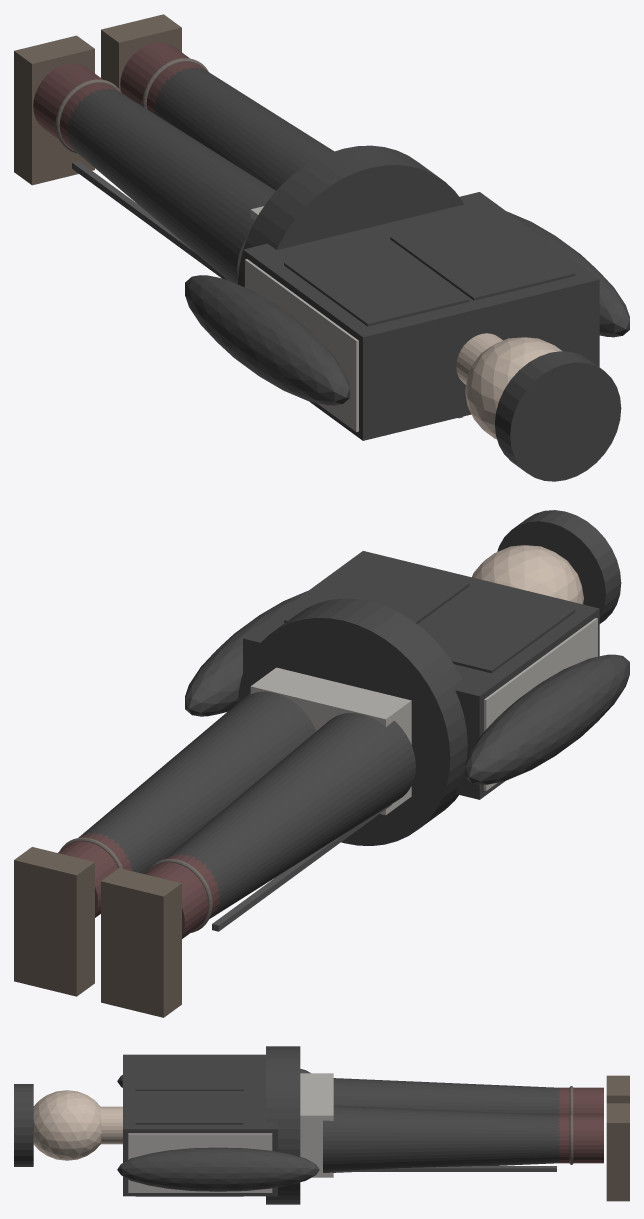
The model's file is MASTER_143_STAGE3_DETAIL.glb.
3 renders of one model, top to bottom at view 1: azimuth 30°, elevation 25°; view 2: azimuth 150°, elevation 25°; view 3: azimuth 270°, elevation 25°, orthographic. The views are drawn at different scales.
Parts seen in each view (by area): view 1: slot_upper_inner__këmishë, slot_lower_main__tirq_L, slot_waist__brez, slot_headwear__mbulesë_koke, slot_upper_inner_sleeve_L, slot_lower_main__tirq_R, slot_upper_outer__jelek/xhamadan_R, slot_upper_outer__jelek/xhamadan_L, slot_footwear__opinga_L, mannequin_torso, mannequin_head, slot_footwear__opinga_R (+5 smaller); view 2: slot_waist__brez, slot_lower_main__tirq_L, slot_lower_main__tirq_R, slot_footwear__opinga_R, slot_footwear__opinga_L, slot_upper_inner_sleeve_L, slot_upper_inner__këmishë, slot_upper_outer__jelek/xhamadan_L, slot_headwear__mbulesë_koke, mannequin_hips, slot_upper_outer__jelek/xhamadan_R, mannequin_head (+5 smaller); view 3: slot_lower_main__tirq_R, slot_upper_inner_sleeve_R, slot_lower_main__tirq_L, slot_upper_inner__këmishë, mannequin_head, slot_waist__brez, slot_upper_outer__jelek/xhamadan_R, slot_upper_outer__jelek/xhamadan_L, mannequin_torso, mannequin_hips, slot_footwear__opinga_R, slot_legwear__çorape_R (+6 smaller).
Boxes of the visible parts, x1=… form: slot_upper_inner__këmishë: x1=243, y1=192, x2=599, y2=440; slot_lower_main__tirq_L: x1=67, y1=88, x2=275, y2=284; slot_waist__brez: x1=238, y1=145, x2=464, y2=286; slot_headwear__mbulesë_koke: x1=495, y1=351, x2=621, y2=481; slot_upper_inner_sleeve_L: x1=185, y1=275, x2=349, y2=405; slot_lower_main__tirq_R: x1=154, y1=67, x2=334, y2=190; slot_upper_outer__jelek/xhamadan_R: x1=390, y1=212, x2=575, y2=300; slot_upper_outer__jelek/xhamadan_L: x1=284, y1=238, x2=469, y2=326; slot_footwear__opinga_L: x1=14, y1=35, x2=94, y2=185; mannequin_torso: x1=245, y1=259, x2=358, y2=431; mannequin_head: x1=465, y1=337, x2=562, y2=439; slot_footwear__opinga_R: x1=101, y1=14, x2=181, y2=90; slot_waist__brez: x1=238, y1=598, x2=467, y2=845; slot_lower_main__tirq_L: x1=165, y1=713, x2=415, y2=918; slot_lower_main__tirq_R: x1=79, y1=691, x2=315, y2=873; slot_footwear__opinga_R: x1=14, y1=847, x2=94, y2=996; slot_footwear__opinga_L: x1=101, y1=868, x2=181, y2=1017; slot_upper_inner_sleeve_L: x1=465, y1=654, x2=629, y2=784; slot_upper_inner__këmishë: x1=243, y1=551, x2=599, y2=799; slot_upper_outer__jelek/xhamadan_L: x1=419, y1=585, x2=575, y2=673; slot_headwear__mbulesë_koke: x1=497, y1=510, x2=621, y2=623; mannequin_hips: x1=250, y1=667, x2=411, y2=815; slot_upper_outer__jelek/xhamadan_R: x1=284, y1=559, x2=469, y2=623; mannequin_head: x1=472, y1=545, x2=583, y2=604; slot_lower_main__tirq_R: x1=323, y1=1105, x2=560, y2=1172; slot_upper_inner_sleeve_R: x1=117, y1=1147, x2=319, y2=1191; slot_lower_main__tirq_L: x1=333, y1=1078, x2=560, y2=1114; slot_upper_inner__këmishë: x1=123, y1=1054, x2=277, y2=1196; mannequin_head: x1=33, y1=1090, x2=101, y2=1160; slot_waist__brez: x1=266, y1=1046, x2=300, y2=1204; slot_upper_outer__jelek/xhamadan_R: x1=135, y1=1091, x2=243, y2=1196; slot_upper_outer__jelek/xhamadan_L: x1=135, y1=1057, x2=243, y2=1090; mannequin_torso: x1=128, y1=1133, x2=272, y2=1192; mannequin_hips: x1=300, y1=1073, x2=333, y2=1177; slot_footwear__opinga_R: x1=606, y1=1103, x2=629, y2=1201; slot_legwear__çorape_R: x1=557, y1=1115, x2=603, y2=1163.
Size of the model in its own units: 0.7033 by 0.44 by 1.71.
